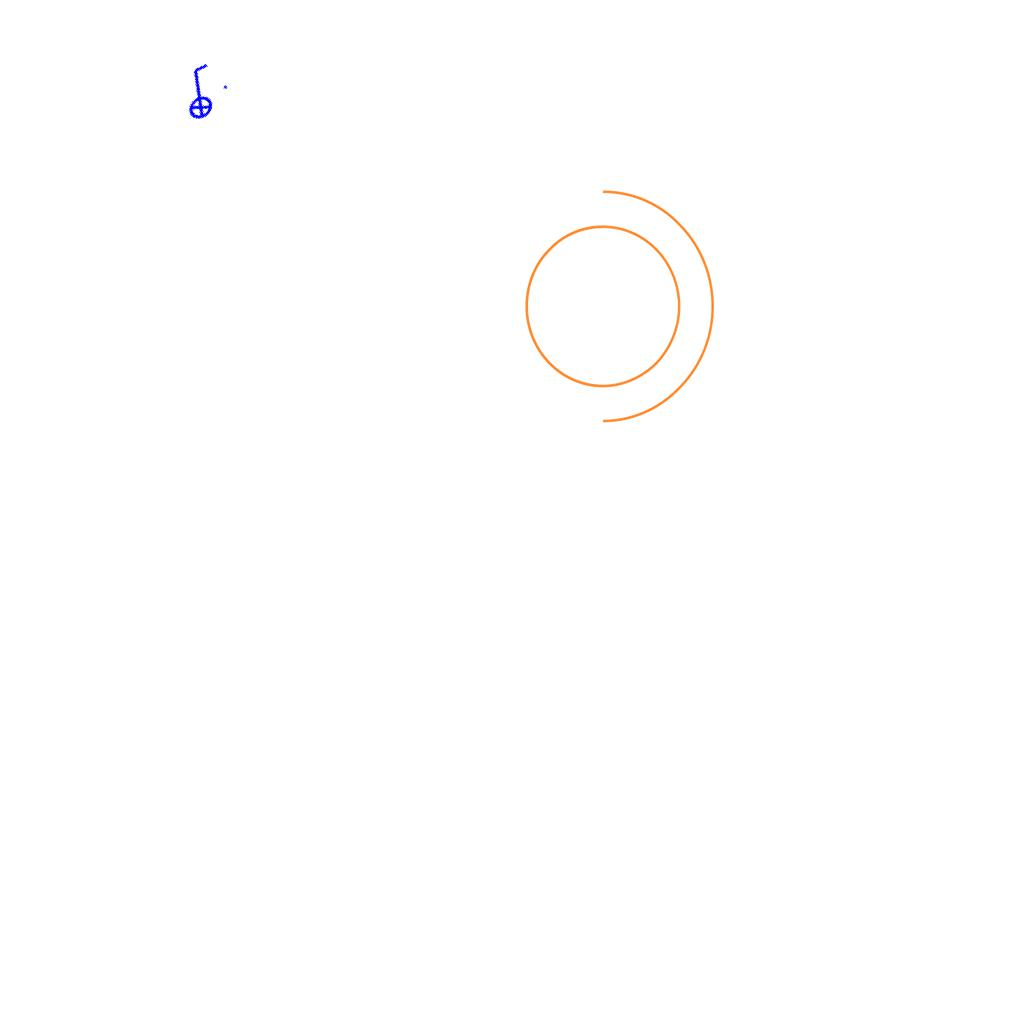Ausschalter_beleuchtet: (162, 55, 236, 129)
Scheinwerfer_fuer_Alarmbeleuchtung: (500, 168, 725, 432)
